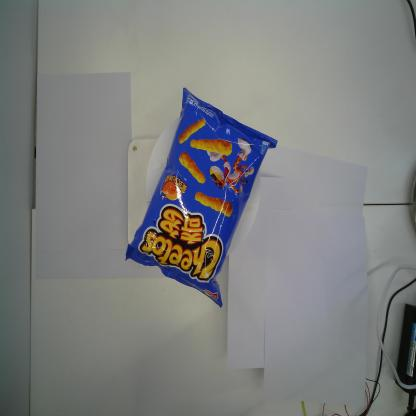Puffed Food: (124, 87, 278, 309)
